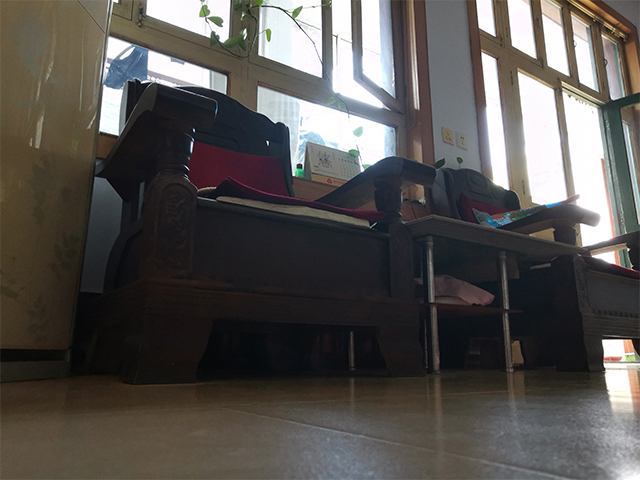stool: (78, 75, 440, 387), (434, 166, 640, 375)
table: (402, 212, 589, 377)
